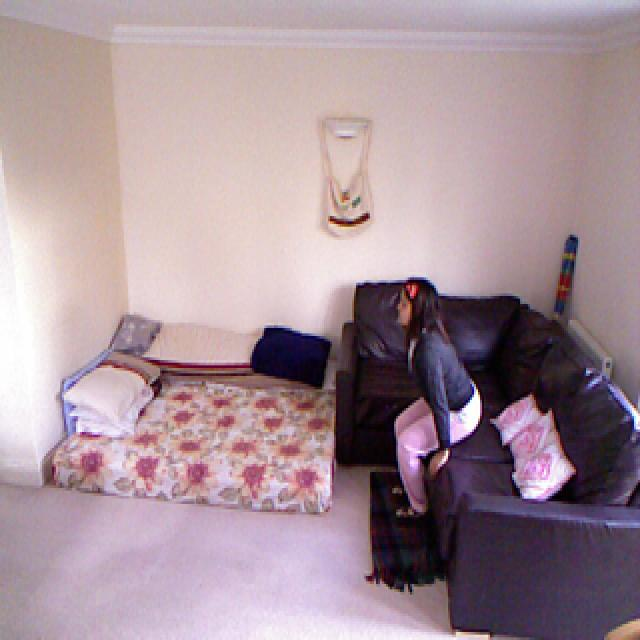sitting: (388, 276, 484, 523)
